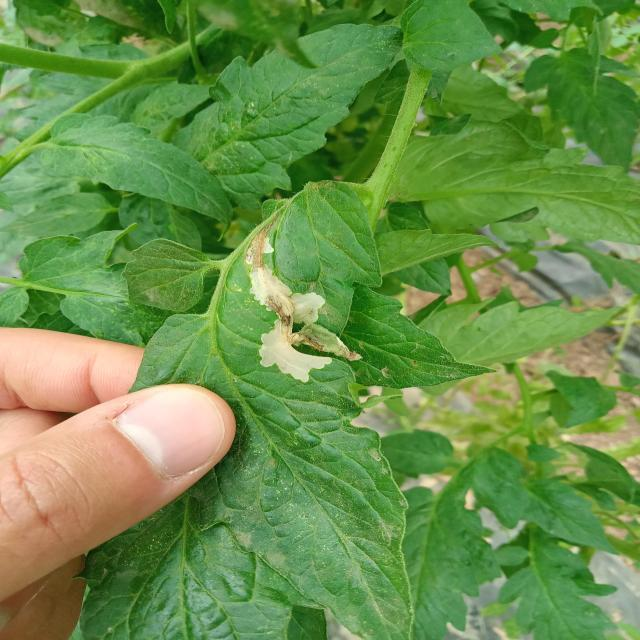Tuta absoluta: (228, 251, 329, 339), (247, 317, 333, 397), (293, 319, 367, 363)
